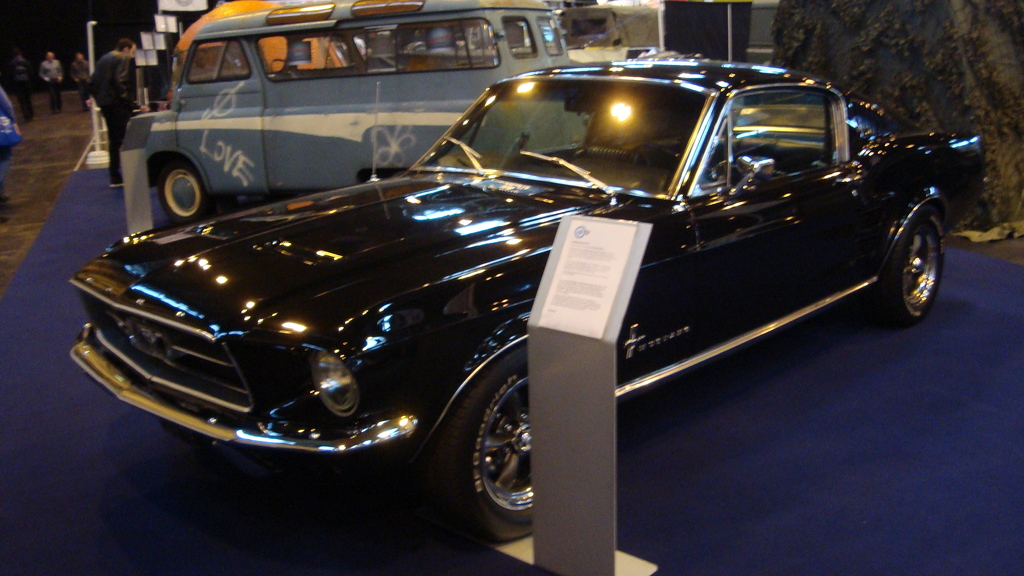Car: (66, 41, 984, 549)
